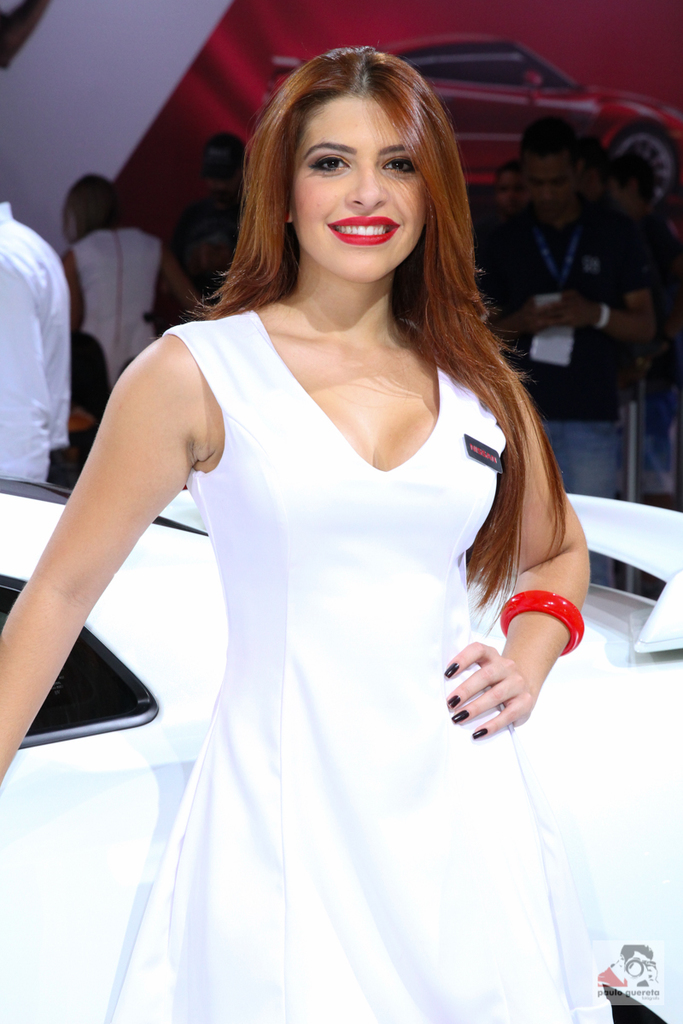cars: (0, 480, 682, 1023)
